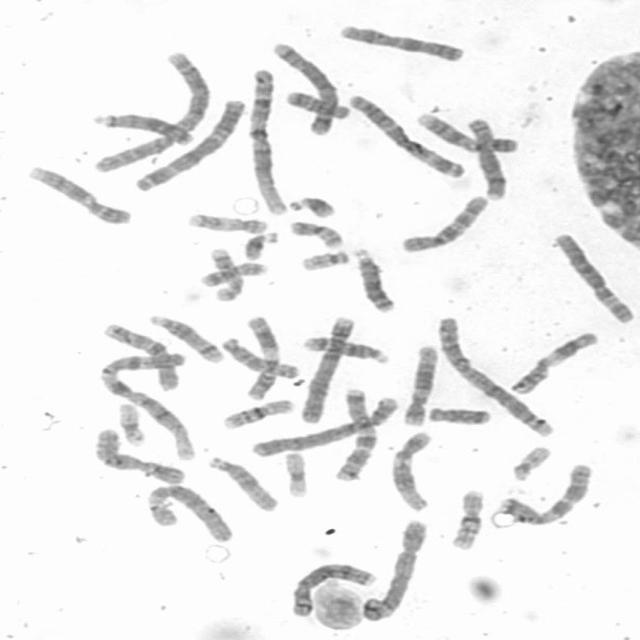A1: (96, 345, 196, 462), (244, 66, 289, 217)
A2: (90, 50, 211, 177), (434, 314, 556, 439)
A3: (130, 96, 247, 192), (346, 91, 466, 179)
B4: (247, 393, 401, 458), (296, 313, 358, 424)
B5: (356, 517, 430, 623), (268, 38, 339, 136)
C10: (397, 192, 492, 255), (99, 320, 182, 391)
C11: (505, 328, 601, 396), (239, 313, 283, 400)
C12: (386, 429, 434, 513), (399, 342, 439, 426)
C6: (552, 230, 636, 326), (142, 481, 235, 544)
C7: (496, 461, 594, 526), (330, 386, 378, 482)
C8: (290, 562, 378, 617), (464, 116, 508, 201)
C9: (23, 162, 133, 226), (412, 109, 520, 155)
D13: (92, 112, 196, 148), (350, 244, 397, 314)
D14: (146, 312, 225, 364), (298, 333, 392, 366)
D15: (205, 454, 281, 512), (219, 336, 302, 380)
E16: (446, 486, 487, 552), (217, 396, 294, 431)
E17: (204, 246, 245, 304), (184, 211, 270, 234)
E18: (283, 88, 351, 120), (426, 404, 492, 427)
F19: (113, 399, 149, 446), (282, 449, 310, 498)
F20: (196, 260, 270, 288), (287, 219, 345, 249)
G21: (240, 228, 280, 262), (286, 193, 338, 219)
G22: (506, 444, 554, 482), (296, 247, 352, 272)
X: (90, 426, 188, 486), (336, 21, 466, 63)
